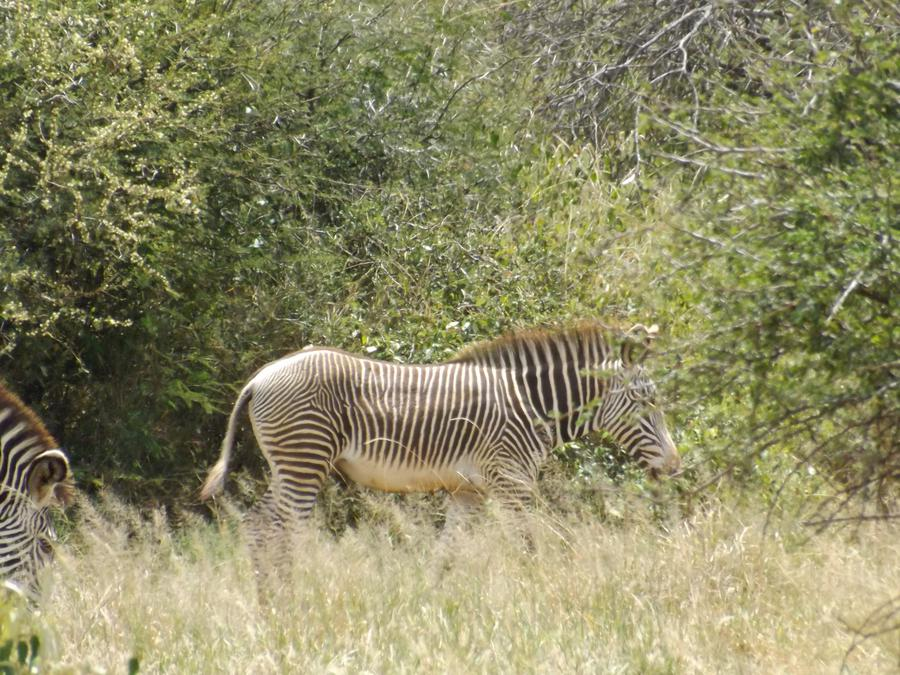zebra_grevys: (237, 331, 543, 485)
